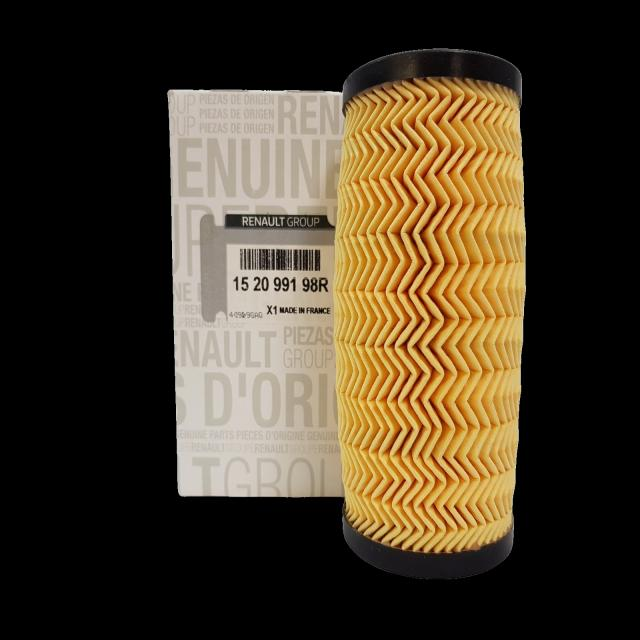oil_filter: (340, 49, 518, 582)
